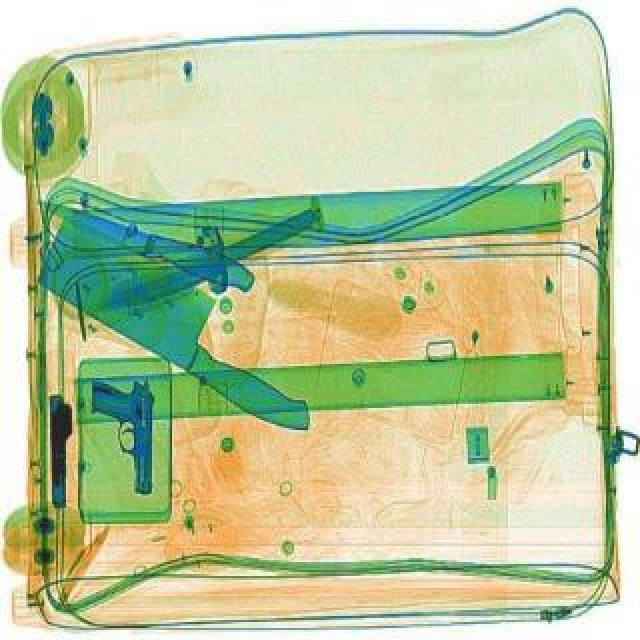gun: (88, 378, 156, 492), (48, 392, 76, 504)
knife: (22, 212, 346, 438), (86, 200, 322, 322), (30, 178, 258, 296)
